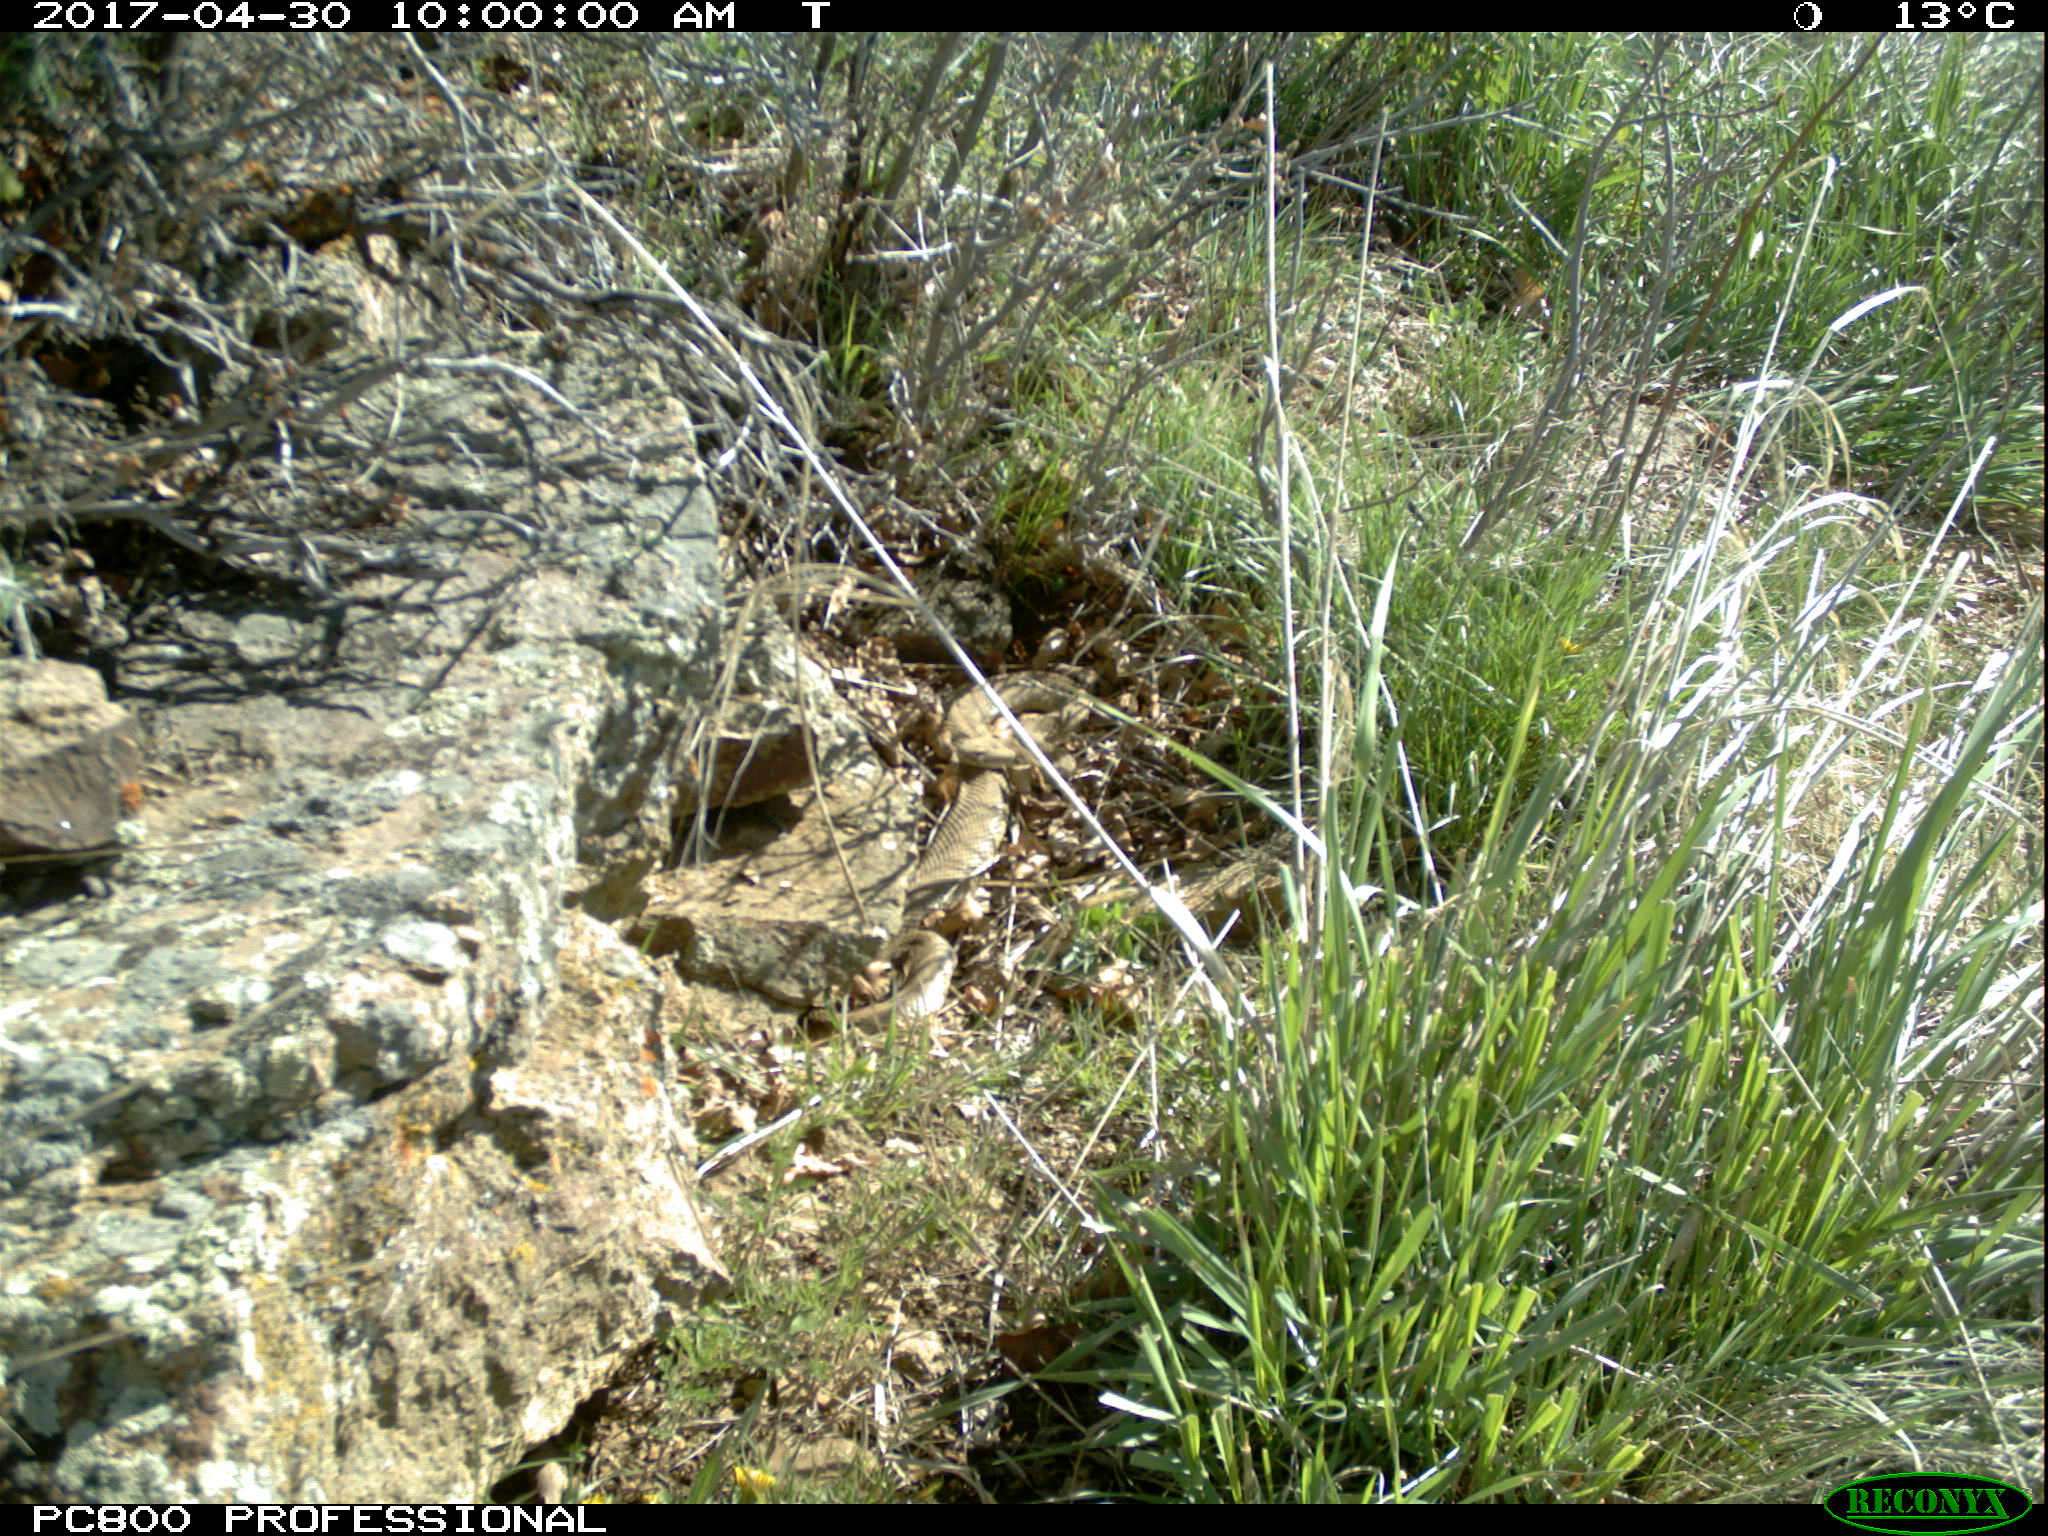snake: (906, 655, 1105, 921)
